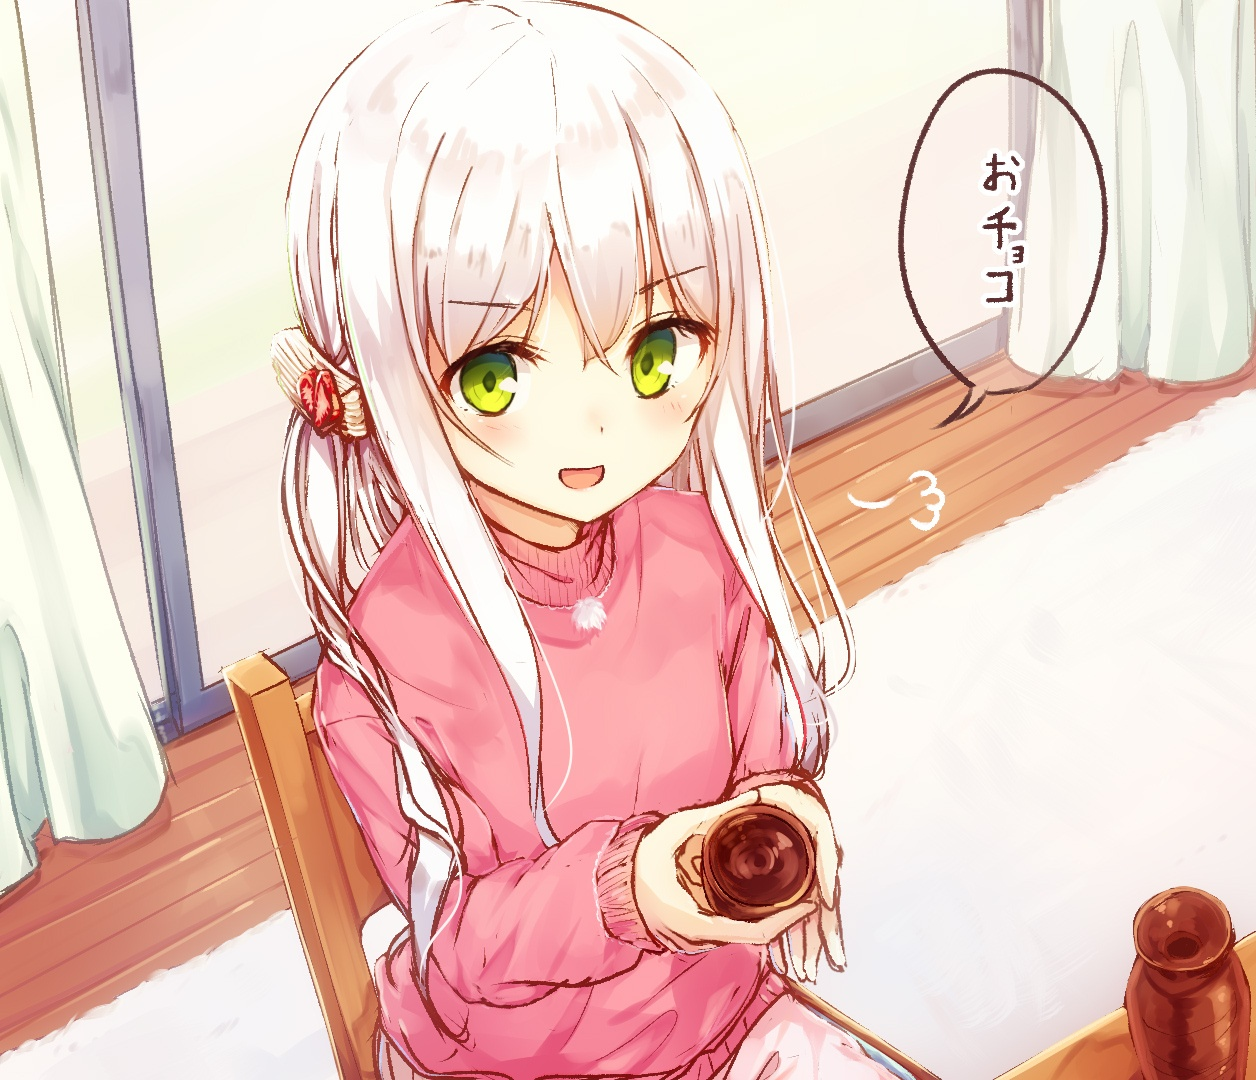纸片人正脸: (269, 0, 785, 550)
